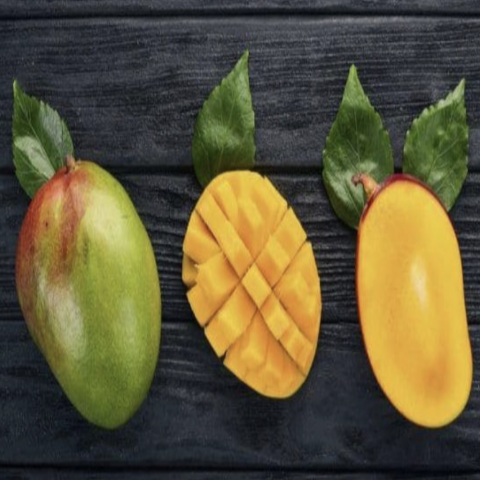mango: (10, 145, 169, 441), (174, 168, 324, 438), (341, 159, 479, 435)
